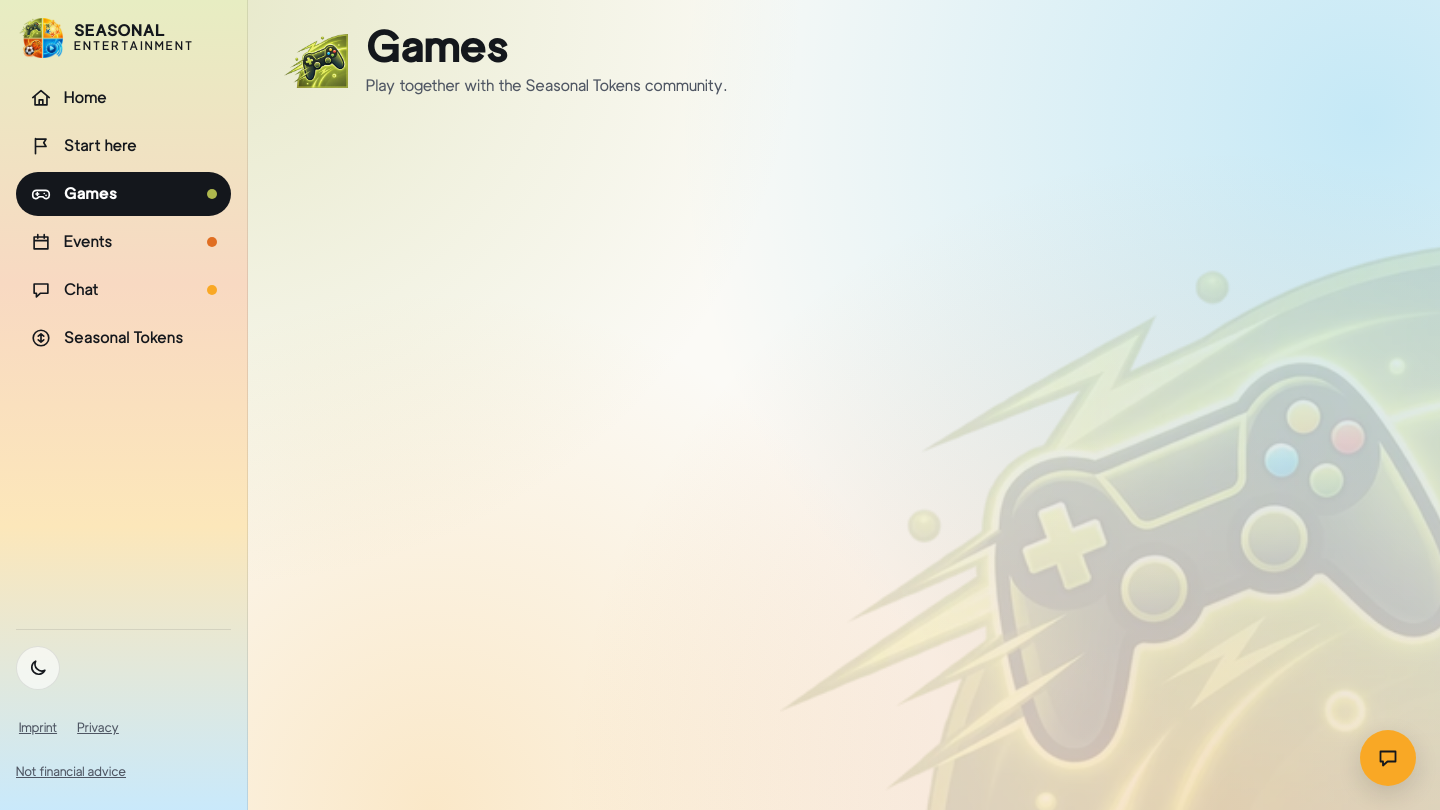
Test: the drawer › a click on an option picks it
Click the button named "Chat" at (1388, 758), box [1360, 730, 1416, 786]
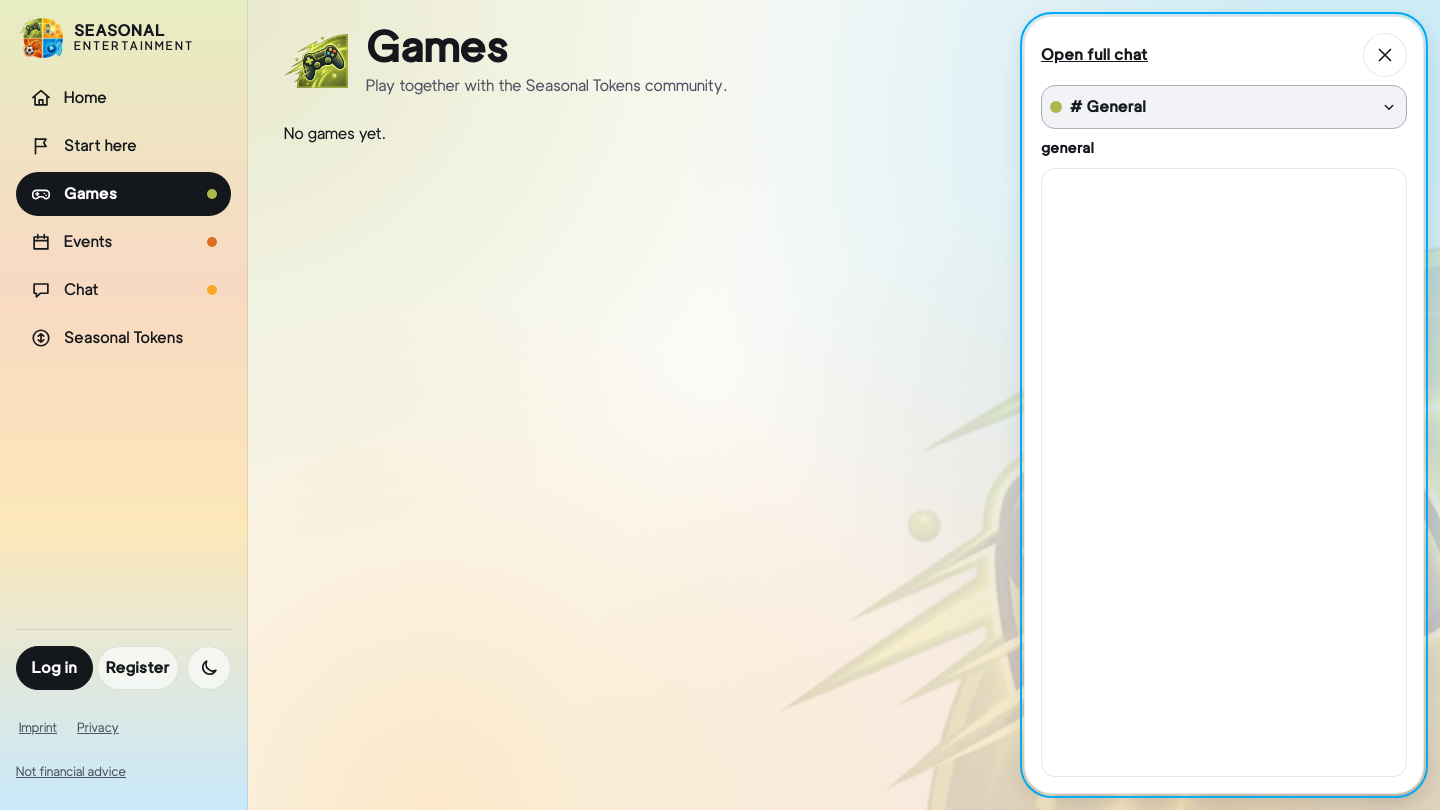
Click the button with aria-label "Room: General" at (1116, 106), box [1041, 85, 1407, 129]
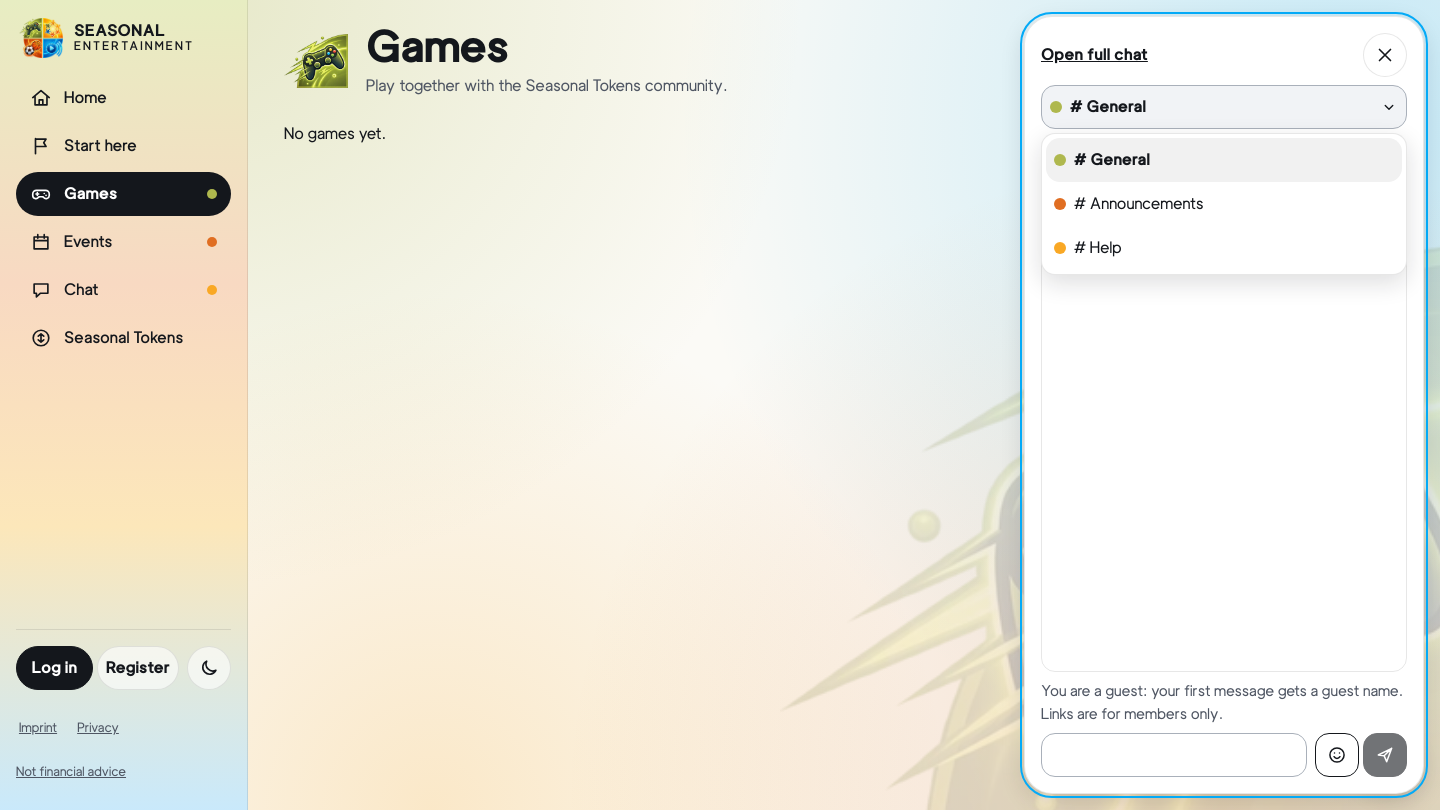
Click the option "# Help" at (1088, 248), box [1054, 238, 1122, 257]
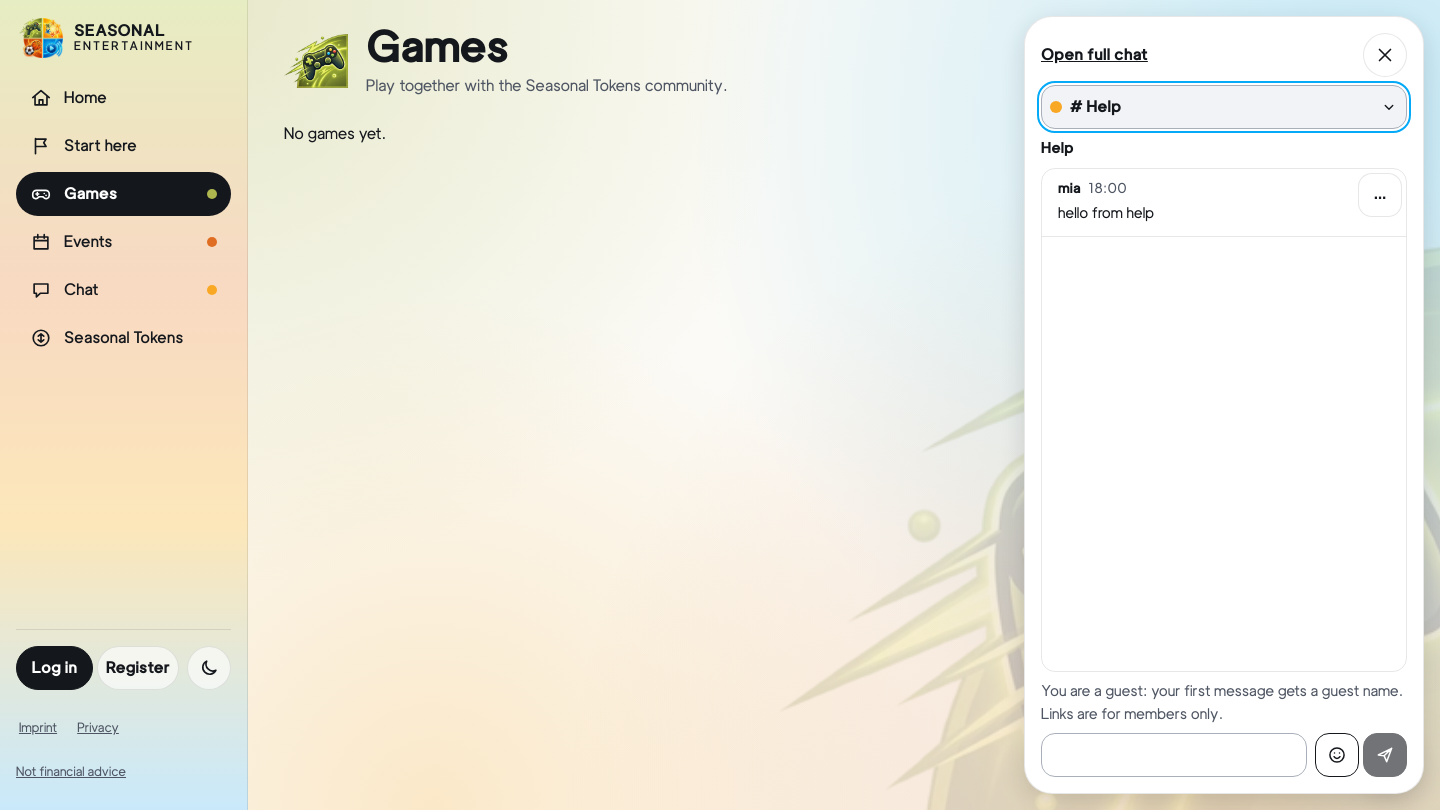
Expected: the text "hello from help" is shown, [1058, 204, 1154, 222]
